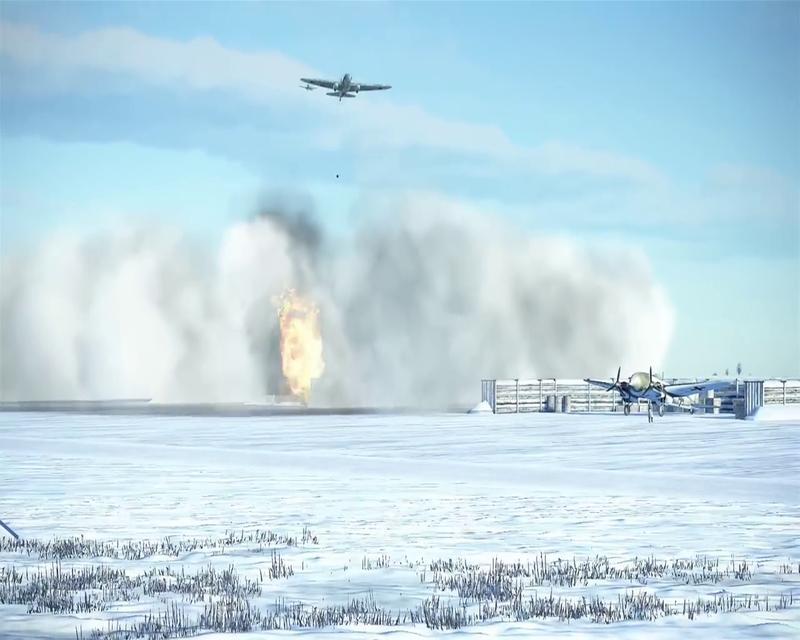UAV: (584, 366, 742, 423), (298, 72, 392, 102)
